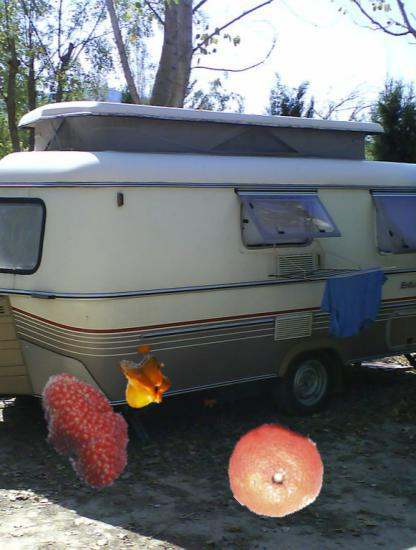Carambula: (117, 353, 173, 409)
Clementine: (227, 420, 327, 520)
Strawberry: (22, 367, 147, 492)
